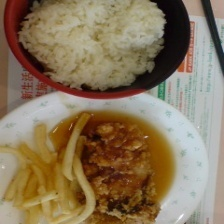rice: (16, 0, 167, 91)
